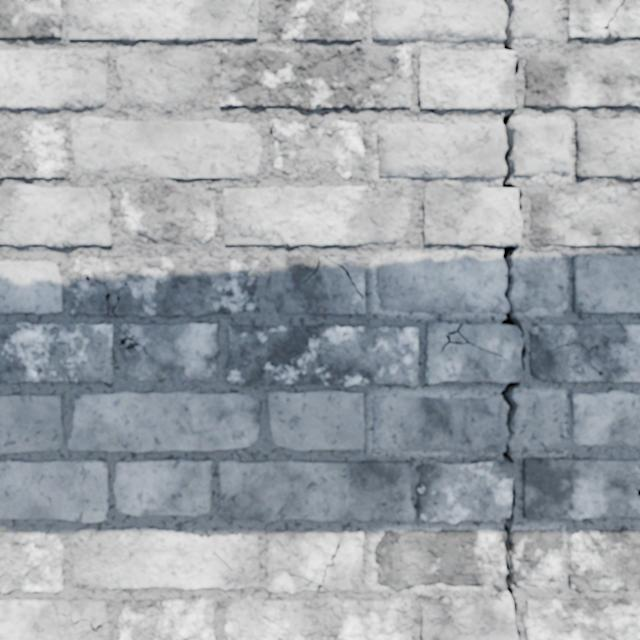broken_brick: (373, 392, 566, 455), (374, 529, 506, 591), (377, 254, 508, 314), (377, 120, 506, 178), (372, 0, 506, 41), (510, 116, 572, 176), (512, 529, 563, 586), (511, 261, 566, 312), (510, 0, 556, 40)
crack: (418, 0, 525, 433), (416, 444, 519, 639), (219, 45, 413, 111), (66, 254, 258, 318), (71, 116, 261, 180), (219, 460, 415, 522), (223, 184, 414, 247), (71, 526, 259, 590), (226, 324, 419, 386), (68, 391, 260, 452), (66, 0, 259, 43), (225, 596, 414, 639), (523, 44, 639, 108), (523, 458, 639, 520), (0, 184, 112, 247), (0, 322, 114, 383), (528, 187, 639, 248), (0, 460, 109, 522), (0, 48, 109, 110), (529, 324, 639, 382), (266, 530, 364, 593), (118, 323, 219, 381), (120, 184, 216, 245), (267, 390, 364, 450), (271, 254, 365, 315), (117, 46, 213, 105), (113, 459, 212, 516), (270, 118, 364, 178), (523, 597, 639, 639), (567, 529, 639, 592), (0, 598, 108, 639), (0, 118, 69, 179), (117, 597, 216, 639), (575, 117, 639, 180), (0, 531, 63, 594), (572, 254, 639, 313), (0, 394, 65, 454), (272, 0, 364, 42), (571, 390, 639, 446), (0, 260, 63, 315), (567, 0, 639, 40), (0, 0, 62, 40)
